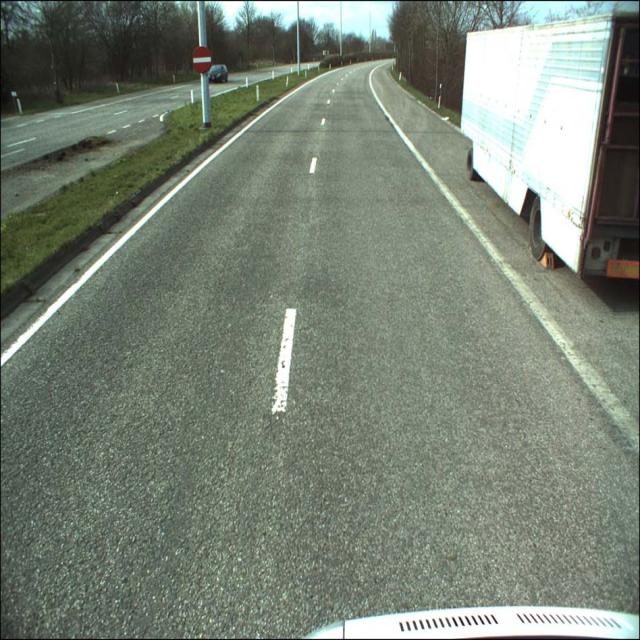girisyok: (192, 45, 211, 72)
